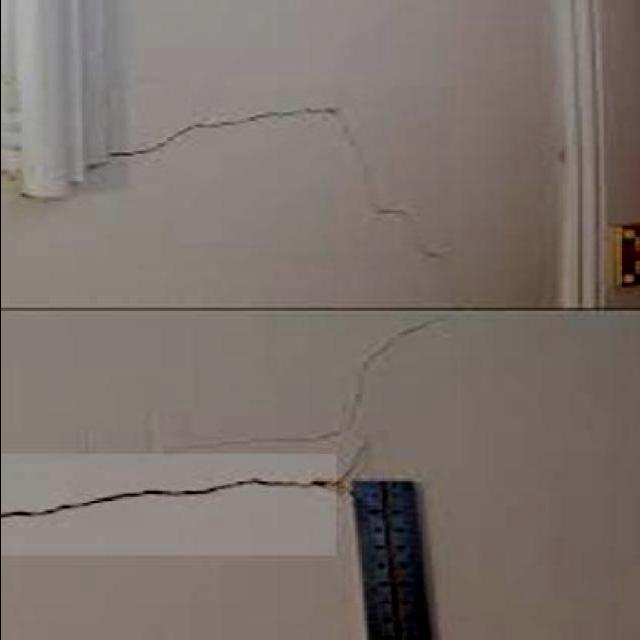SurfaceCrack: (0, 450, 366, 566)
